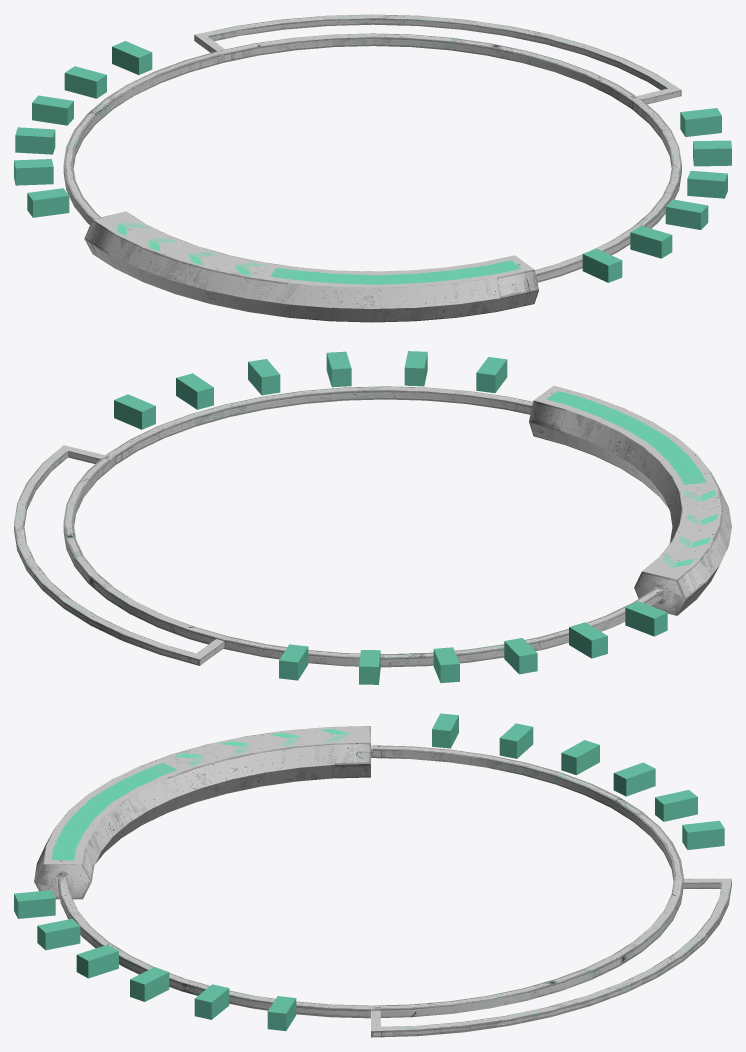
Rendered from Lumo_ring_out.fbx.
The picture shows the model from 3 angles, top to bottom: view 1: azimuth 30°, elevation 25°; view 2: azimuth 150°, elevation 25°; view 3: azimuth 270°, elevation 25°; orthographic projection. The views are drawn at different scales.
Visible parts, largest first — view 1: Lumo_ring_out; view 2: Lumo_ring_out; view 3: Lumo_ring_out.
Part boxes in pixels (box(x1,y1,x2,y2)): Lumo_ring_out: box(14, 14, 731, 322); Lumo_ring_out: box(14, 351, 731, 684); Lumo_ring_out: box(14, 713, 731, 1037).
Bounding box in the file's own units: 74.59 × 4 × 74.59.
Materials: 1 (1 with a texture image).
